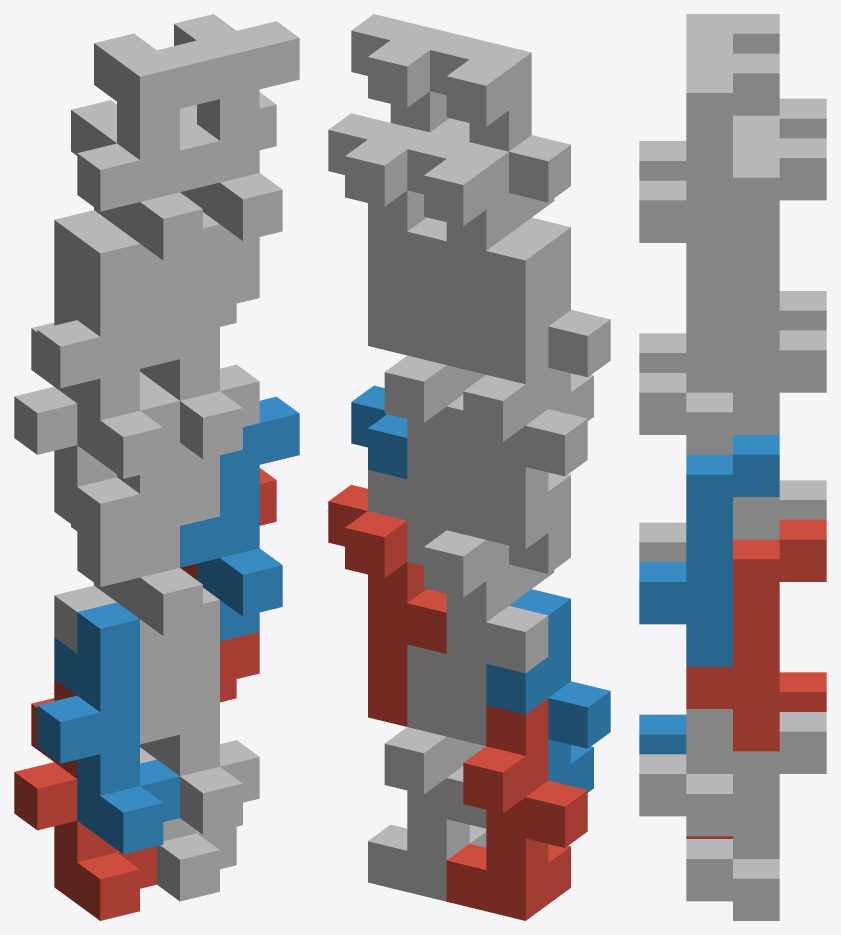
The model's file is tiling.obj.
3 views of the same model, side by side, from view 1: azimuth 30°, elevation 25°; view 2: azimuth 150°, elevation 25°; view 3: azimuth 270°, elevation 25° (orthographic). The views are drawn at different scales.
Parts seen in each view (by area): view 1: copy_2_domain_4, copy_1_domain_2, copy_1_domain_4, copy_2_domain_8, copy_1_domain_6, copy_1_domain_8, copy_2_domain_6, copy_2_domain_2, copy_1_domain_1, copy_1_domain_3, copy_2_domain_3, copy_1_domain_5 (+4 smaller); view 2: copy_1_domain_1, copy_1_domain_3, copy_2_domain_3, copy_2_domain_1, copy_2_domain_7, copy_1_domain_5, copy_2_domain_5, copy_2_domain_4, copy_1_domain_7, copy_1_domain_2, copy_1_domain_4, copy_2_domain_8 (+4 smaller); view 3: copy_2_domain_8, copy_2_domain_6, copy_2_domain_7, copy_2_domain_5, copy_1_domain_5, copy_1_domain_6, copy_1_domain_8, copy_1_domain_7, copy_2_domain_4, copy_2_domain_3, copy_1_domain_1, copy_1_domain_2 (+4 smaller).
Boxes of the visible parts, <box> form: copy_2_domain_4: <box>77,33,219,285</box>; copy_1_domain_2: <box>37,602,179,854</box>; copy_1_domain_4: <box>37,227,179,478</box>; copy_2_domain_8: <box>174,14,299,265</box>; copy_1_domain_6: <box>140,587,259,834</box>; copy_1_domain_8: <box>140,212,259,459</box>; copy_2_domain_6: <box>180,396,299,641</box>; copy_2_domain_2: <box>77,442,219,660</box>; copy_1_domain_1: <box>14,679,156,920</box>; copy_1_domain_3: <box>14,303,139,545</box>; copy_2_domain_3: <box>54,100,196,326</box>; copy_1_domain_5: <box>140,740,236,901</box>; copy_1_domain_1: <box>446,698,587,920</box>; copy_1_domain_3: <box>446,327,587,549</box>; copy_2_domain_3: <box>407,132,548,374</box>; copy_2_domain_1: <box>407,520,548,745</box>; copy_2_domain_7: <box>328,113,446,355</box>; copy_1_domain_5: <box>368,686,486,901</box>; copy_2_domain_5: <box>328,484,446,726</box>; copy_2_domain_4: <box>430,33,570,233</box>; copy_1_domain_7: <box>368,314,486,529</box>; copy_1_domain_2: <box>486,589,610,792</box>; copy_1_domain_4: <box>486,217,610,420</box>; copy_2_domain_8: <box>351,14,469,141</box>; copy_2_domain_8: <box>639,53,779,285</box>; copy_2_domain_6: <box>639,435,779,666</box>; copy_2_domain_7: <box>686,138,826,369</box>; copy_2_domain_5: <box>686,519,826,751</box>; copy_1_domain_5: <box>686,712,826,920</box>; copy_1_domain_6: <box>639,709,732,836</box>; copy_1_domain_8: <box>639,327,732,454</box>; copy_1_domain_7: <box>733,330,826,539</box>; copy_2_domain_4: <box>639,14,779,180</box>; copy_2_domain_3: <box>733,98,826,138</box>; copy_1_domain_1: <box>686,672,826,838</box>; copy_1_domain_2: <box>639,714,686,754</box>.
Size of the model in its own units: 6 by 20 by 4.
